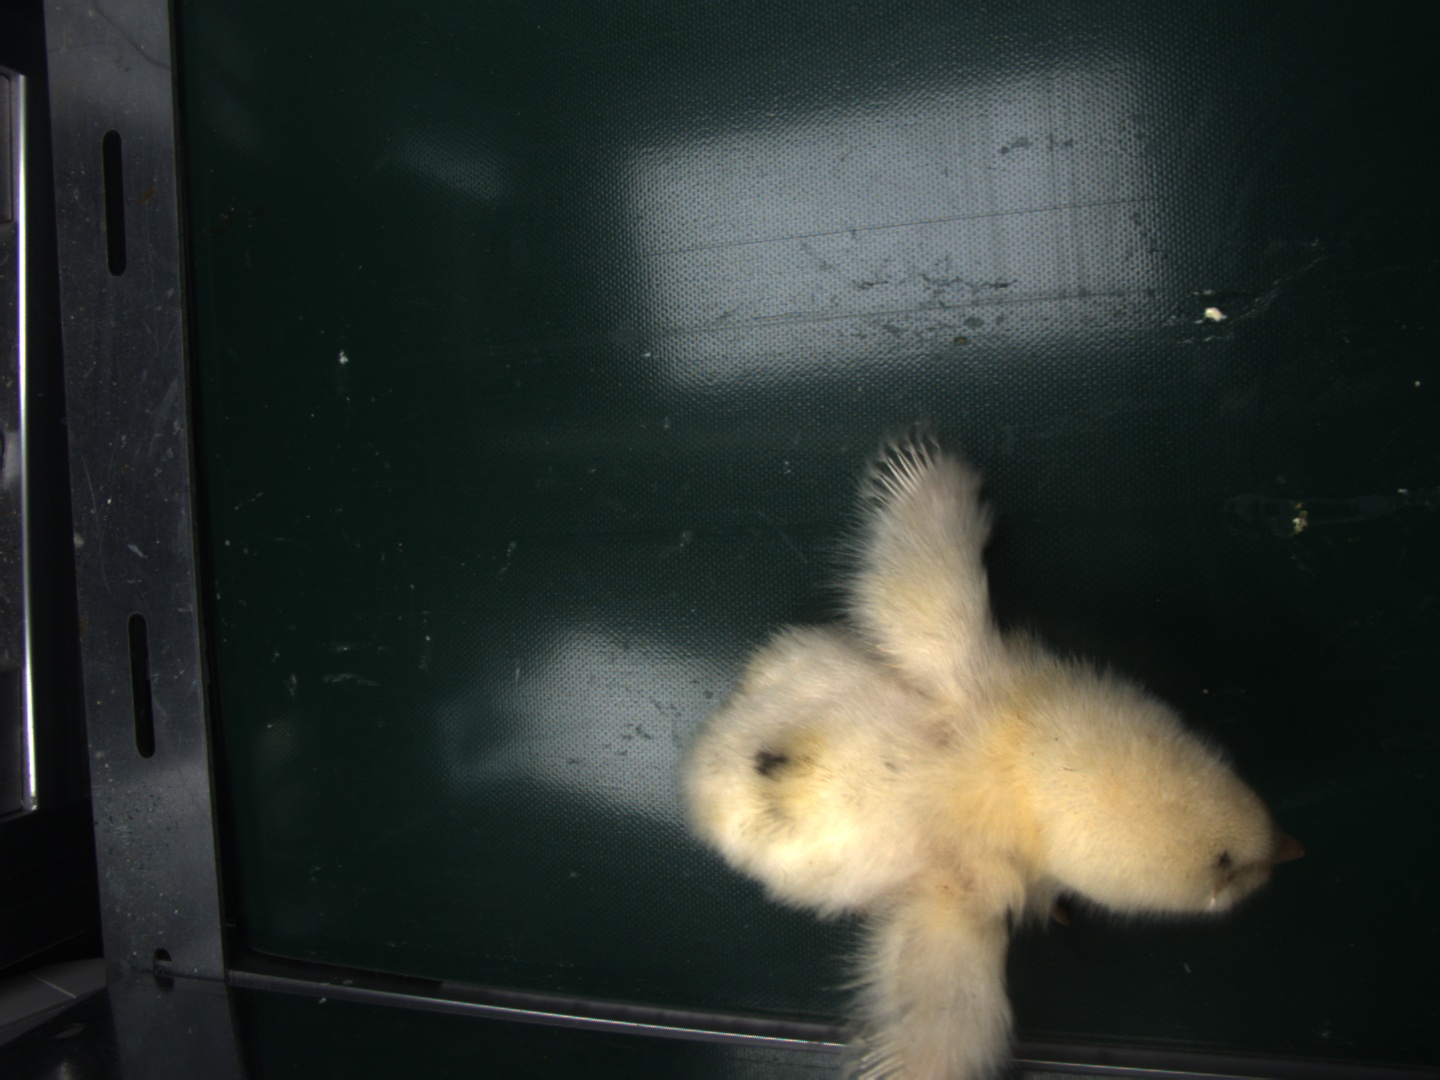male: (865, 430, 941, 514)
